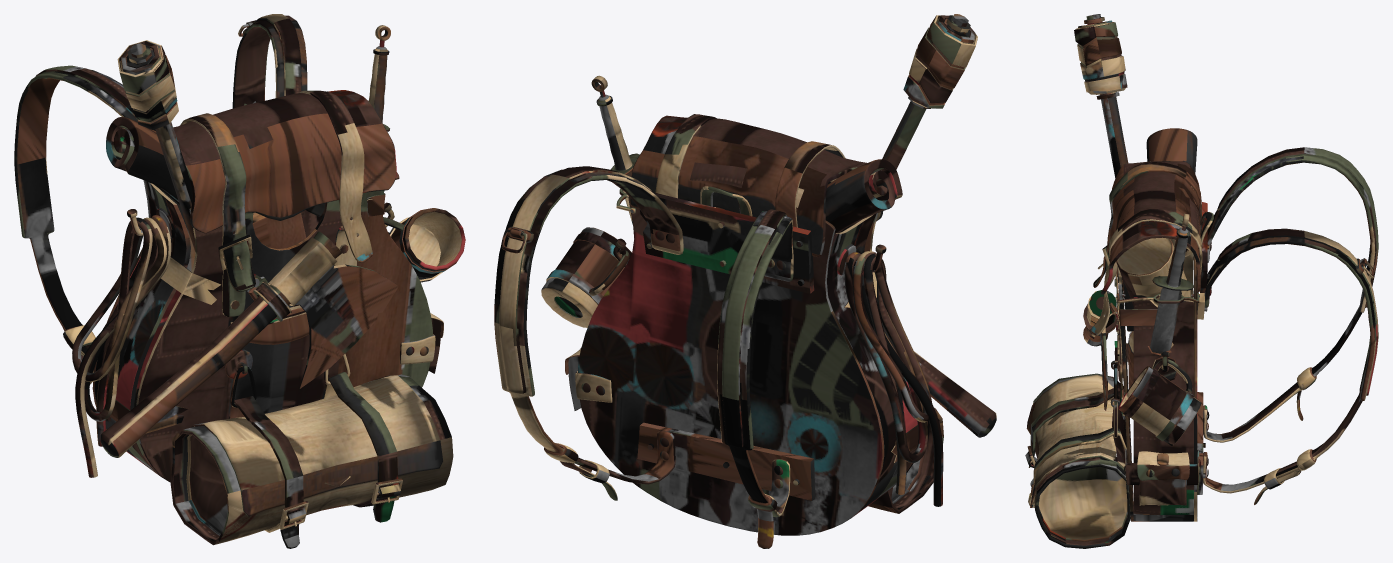
File: backpack.gltf
3 views of the same model, side by side, from view 1: azimuth 30°, elevation 25°; view 2: azimuth 150°, elevation 25°; view 3: azimuth 270°, elevation 25° (orthographic). The views are drawn at different scales.
Parts seen in each view (by area): view 1: Cylinder.030__0, Plane.008__0, Plane.011__0, Cube.050__0, Plane.014__0, Cube.037__0, BezierCurve.003__0, Cylinder.031__0, Cylinder.033__0, Plane.009__0, Cube.051__0, Cylinder.049__0 (+13 smaller); view 2: Plane.010__0, Cube.051__0, Plane.011__0, Cube.050__0, BezierCurve.003__0, Cube.030__0, Plane.009__0, Cube.032__0, Cylinder.049__0, Cylinder.034__0, Cube.047__0, Plane.014__0 (+5 smaller); view 3: Cylinder.030__0, Cube.050__0, Cube.051__0, Plane.009__0, Plane.011__0, Cylinder.049__0, Plane.014__0, Cylinder.034__0, Cylinder.035__0, Cylinder.032__0, Cylinder.031__0, Cube.053__0 (+10 smaller).
Boxes of the visible parts, x1,y1,x2,y2 form: Cylinder.030__0: (170,374,453,545); Plane.008__0: (136,190,432,482); Plane.011__0: (173,90,396,233); Cube.050__0: (14,65,155,384); Plane.014__0: (180,90,372,316); Cube.037__0: (268,237,398,388); BezierCurve.003__0: (72,215,171,477); Cylinder.031__0: (228,372,400,548); Cylinder.033__0: (100,231,341,457); Plane.009__0: (94,181,190,479); Cube.051__0: (232,14,307,108); Cylinder.049__0: (383,208,465,282); Plane.010__0: (578,196,884,535); Cube.051__0: (494,166,683,500); Plane.011__0: (630,115,883,257); Cube.050__0: (717,209,793,548); BezierCurve.003__0: (844,251,943,506); Cube.030__0: (639,192,814,293); Plane.009__0: (827,213,917,515); Cube.032__0: (637,422,815,500); Cylinder.049__0: (541,227,631,327); Cylinder.034__0: (903,15,977,108); Cube.047__0: (825,159,902,235); Plane.014__0: (655,114,845,227); Cylinder.030__0: (1026,373,1130,548); Cube.050__0: (1203,147,1378,442); Cube.051__0: (1203,228,1378,504); Plane.009__0: (1133,252,1193,521); Plane.011__0: (1101,161,1200,294); Cylinder.049__0: (1118,359,1201,445); Plane.014__0: (1090,161,1202,364); Cylinder.034__0: (1074,20,1127,94); Cylinder.035__0: (1116,237,1190,305); Cylinder.032__0: (1150,213,1194,353); Cylinder.031__0: (1025,388,1126,507); Cube.053__0: (1125,449,1199,505).
Bounding box in the file's own units: 3.74 × 4.63 × 3.47.
Materials: 1 (1 with a texture image).
